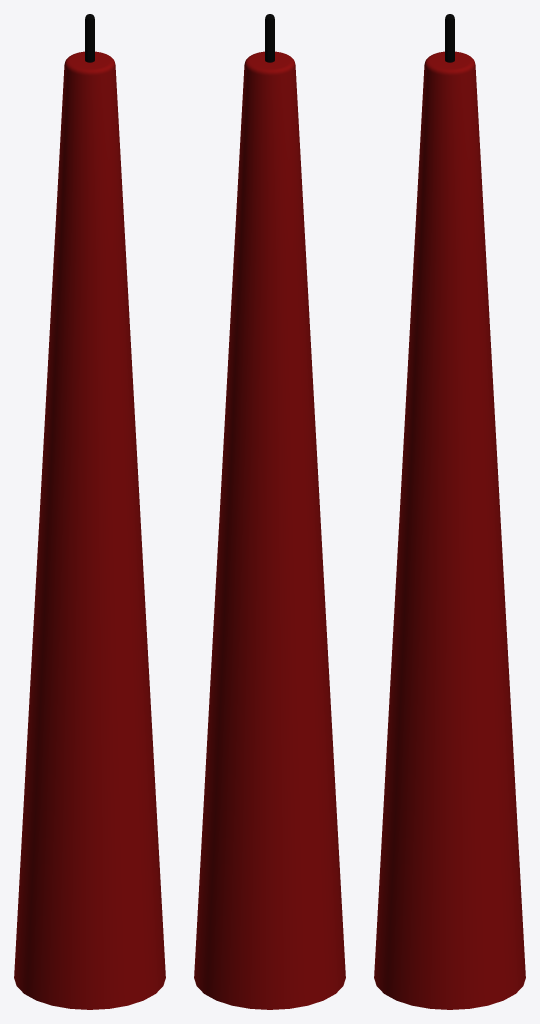
Rendered from CANDLE - RED.fbx.
3 views of the same model, side by side, from view 1: azimuth 30°, elevation 25°; view 2: azimuth 150°, elevation 25°; view 3: azimuth 270°, elevation 25° (orthographic).
Parts seen in each view (by area): view 1: Cone001, Object; view 2: Cone001, Object; view 3: Cone001, Object.
Boxes of the visible parts, x1,y1,x2,y2 form: Cone001: (14, 51, 165, 1009); Object: (85, 14, 94, 62); Cone001: (194, 51, 345, 1009); Object: (265, 14, 274, 62); Cone001: (374, 51, 525, 1009); Object: (445, 14, 454, 62).
Size of the model in its own units: 3 by 21 by 3.
